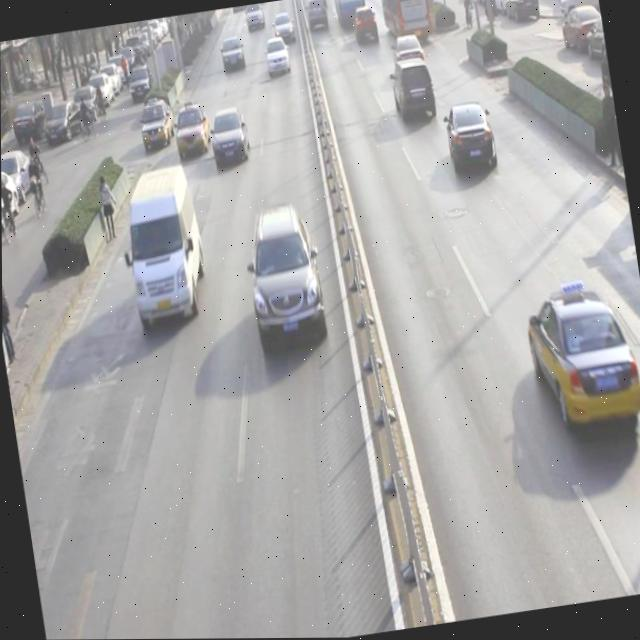car: (519, 278, 640, 443), (239, 201, 331, 357), (444, 102, 500, 179), (388, 56, 440, 128), (208, 111, 253, 172), (170, 103, 212, 161), (137, 100, 178, 151), (391, 33, 429, 83), (351, 7, 380, 50), (218, 35, 247, 75), (264, 39, 292, 80), (305, 0, 332, 34), (272, 13, 297, 49), (244, 3, 266, 35)
truck: (116, 165, 215, 333)
van: (378, 0, 435, 52)
